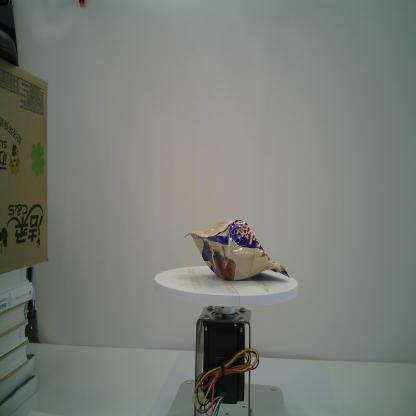Dessert: (184, 219, 290, 283)
